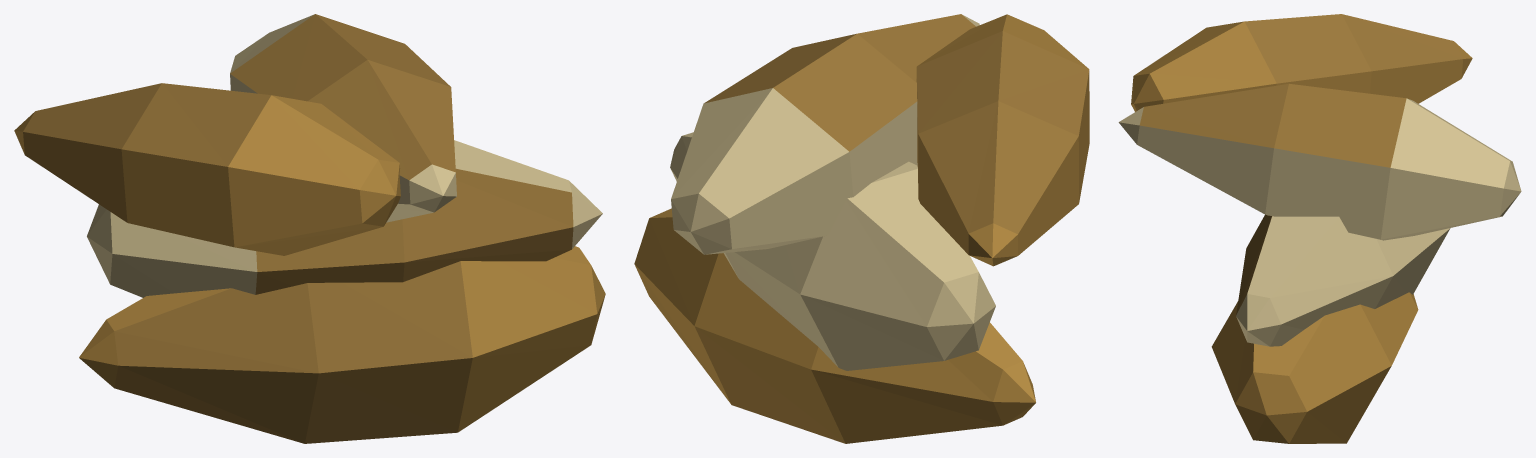
The model's file is seeds.gltf.
3 renders of one model, left to right at view 1: azimuth 30°, elevation 25°; view 2: azimuth 150°, elevation 25°; view 3: azimuth 270°, elevation 25°, orthographic. The views are drawn at different scales.
Visible parts, largest first — view 1: seeds; view 2: seeds; view 3: seeds.
Part boxes in pixels (box(x1,y1,x2,y2)): seeds: box(14, 14, 605, 443); seeds: box(634, 14, 1089, 443); seeds: box(1118, 14, 1521, 443).
Bounding box in the file's own units: 0.0838 × 0.0651 × 0.0716.
